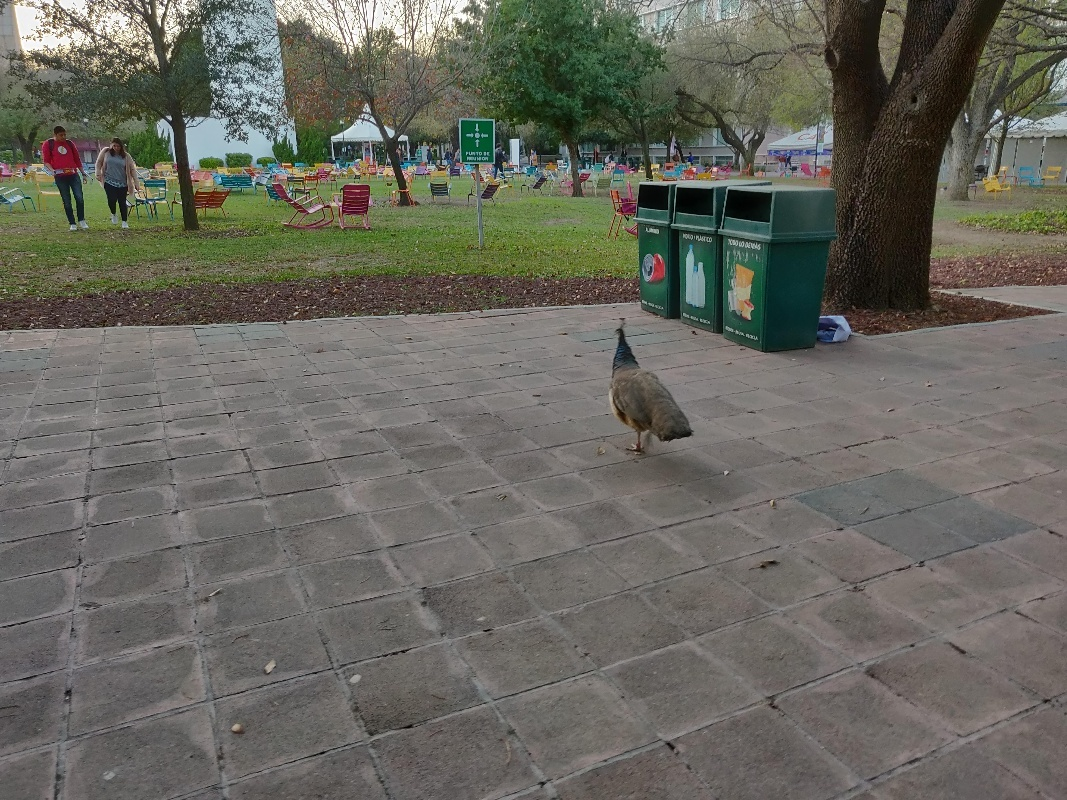pavoreal: (606, 325, 681, 454)
